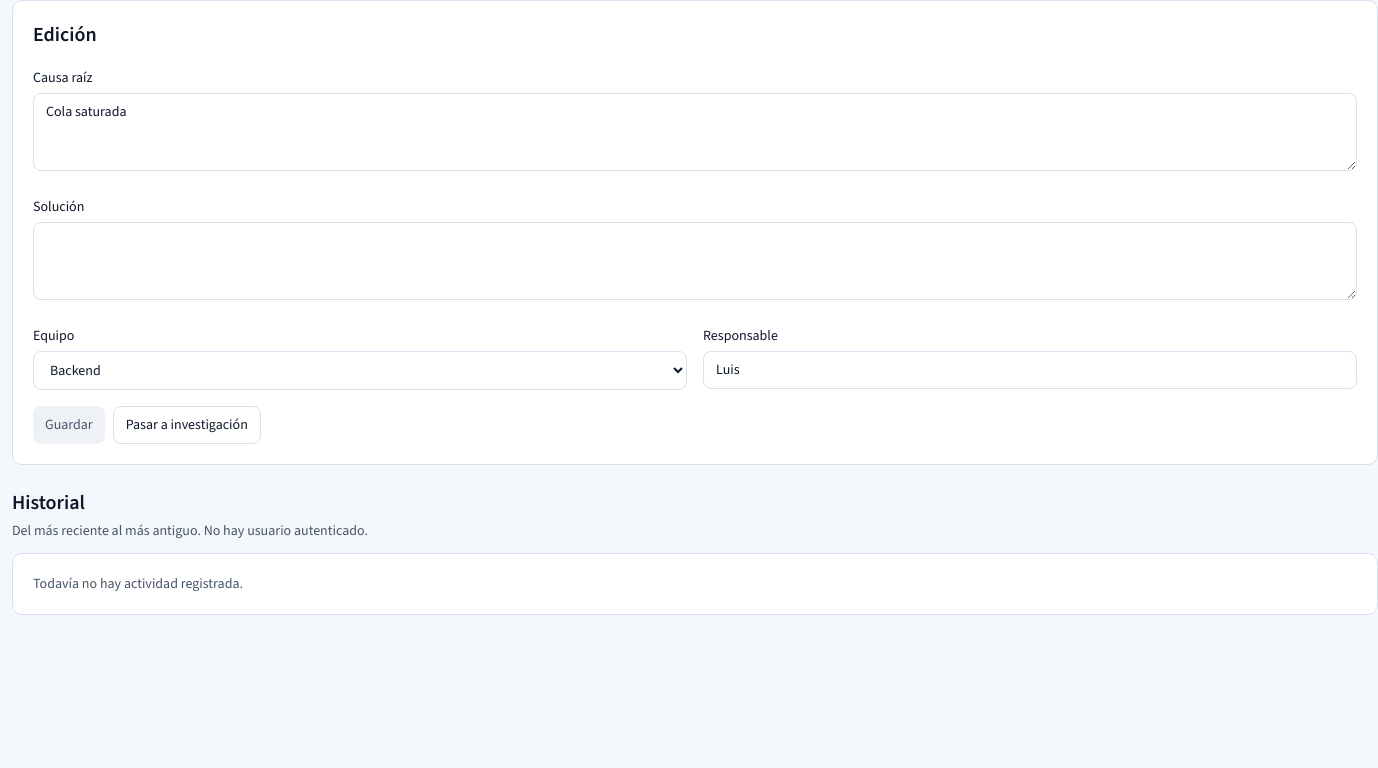
Scenario: IncidentEditor › shows the saved incident after a successful update
This screenshot has width=1378, height=768.
Step 1. Replace the text in the text box labelled "Causa raíz" with "  Timeout del proveedor  " → (695, 132), box [33,93,1357,171]
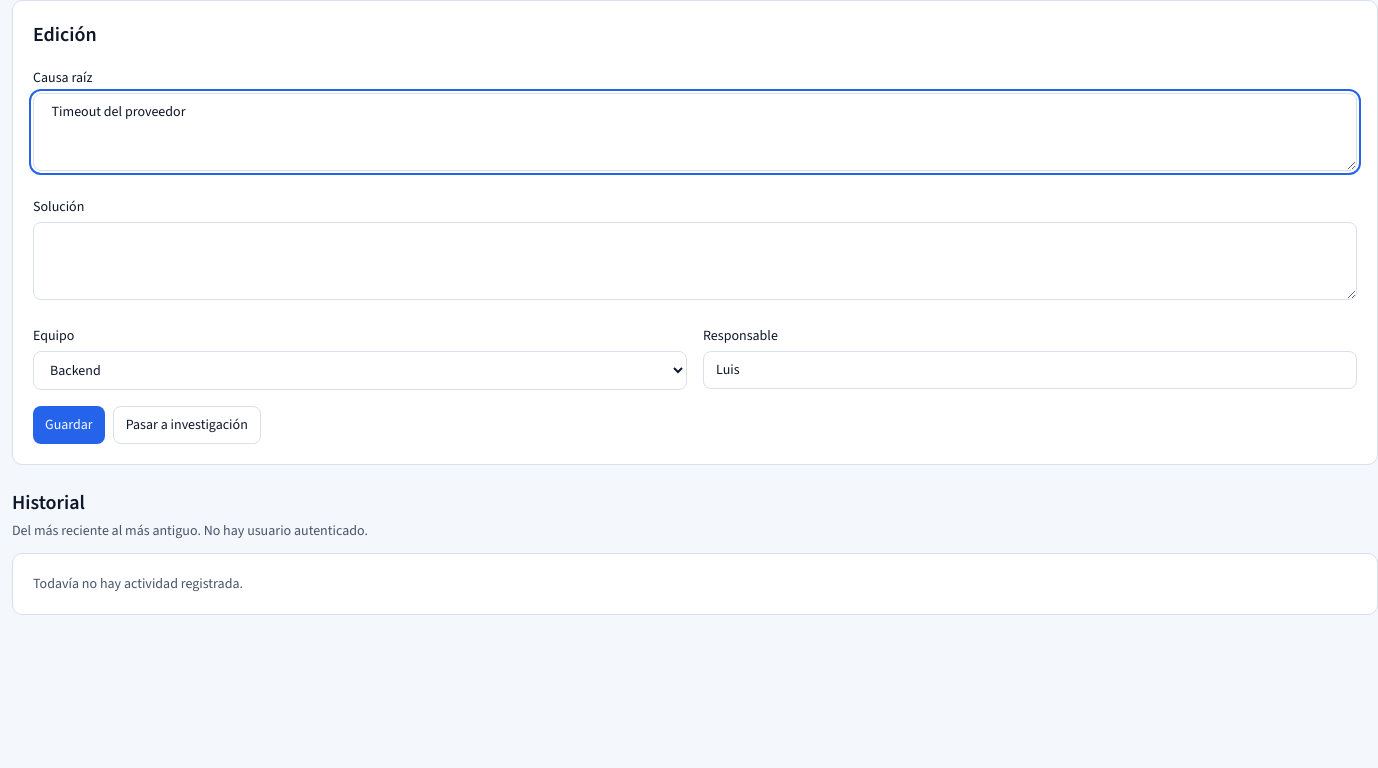
Step 2. Type "Reintentar el cobro" into the text box labelled "Solución" → (695, 261), box [33,222,1357,300]
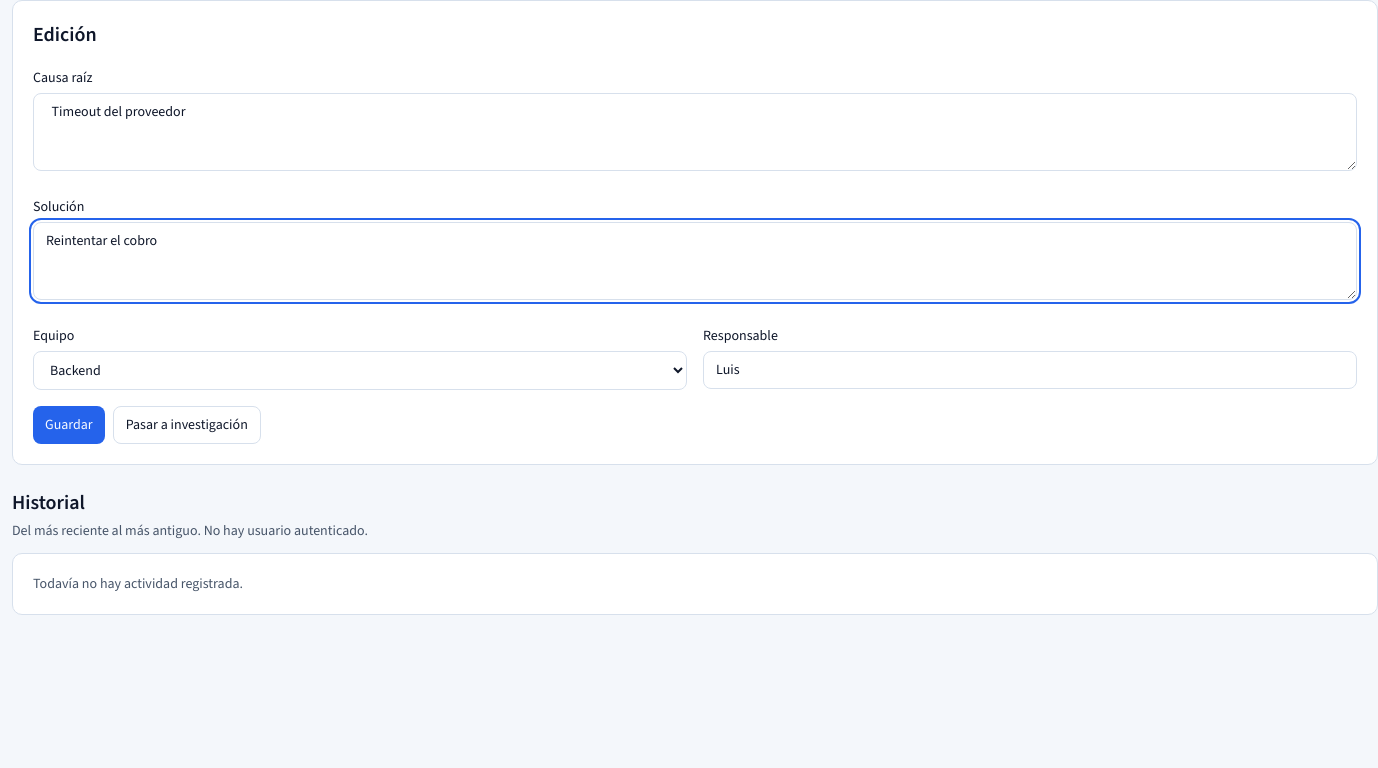
Step 3. Select "Frontend" in the dropdown labelled "Equipo" → (360, 370), box [33,351,687,390]
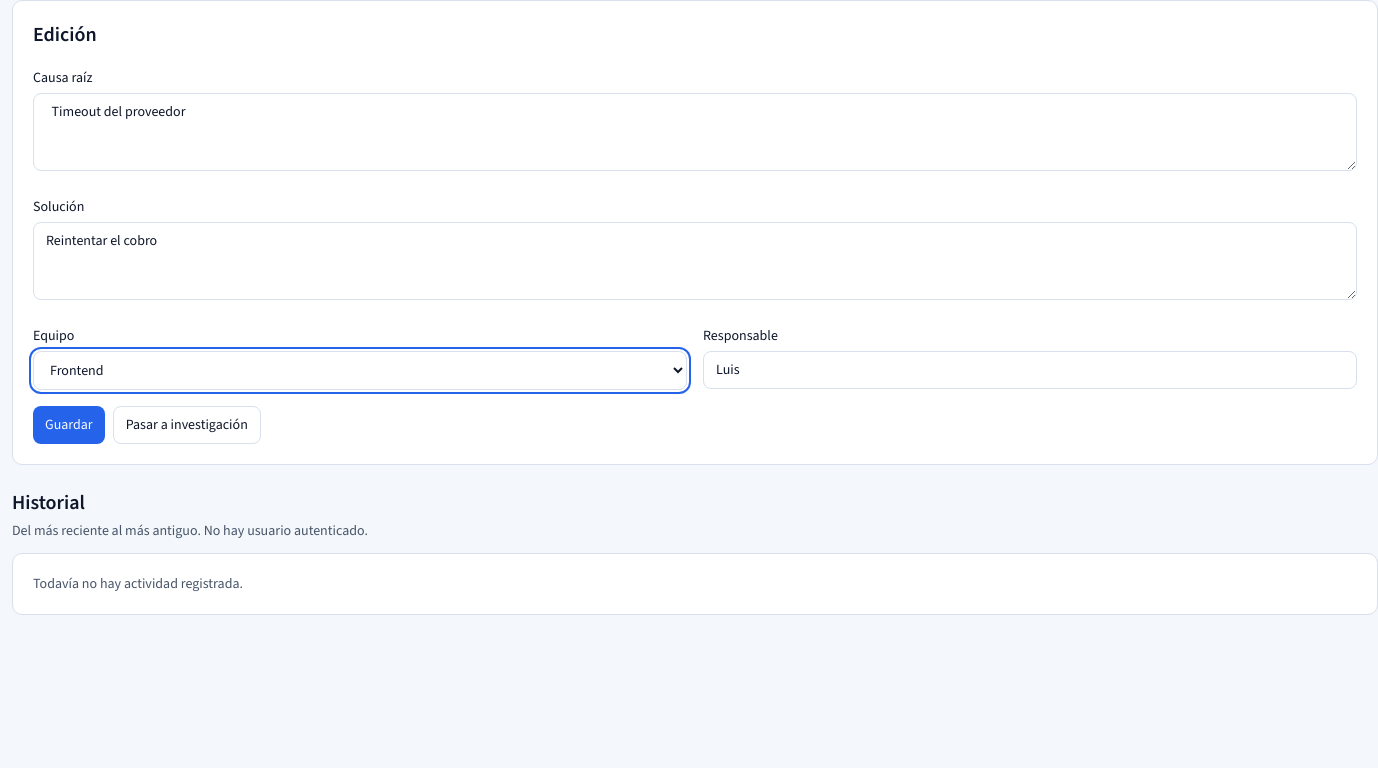
Step 4. Replace the text in the field labelled "Responsable" with "  Ana  " → (1030, 370), box [703,351,1357,389]
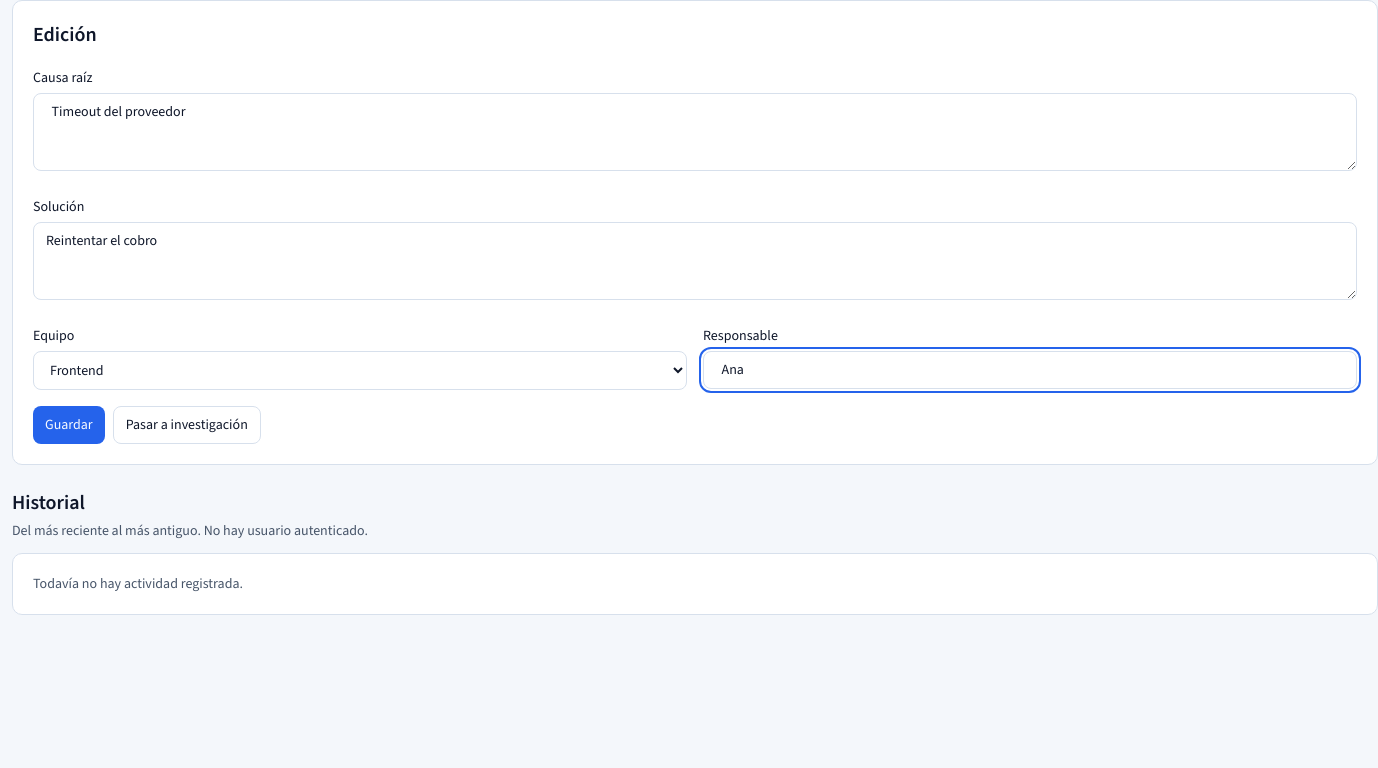
Step 5. Click the button "Guardar" → (69, 425), box [33,406,105,444]
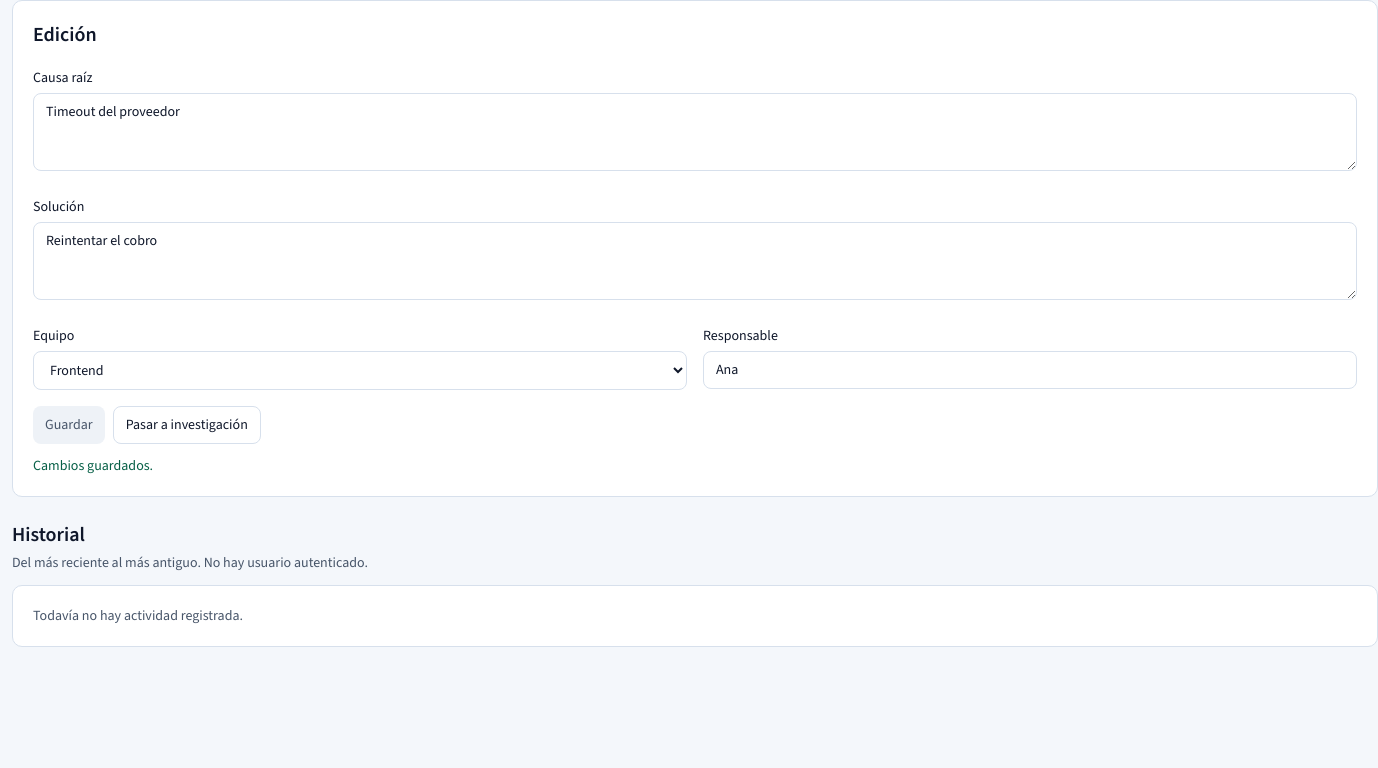
Result: the text "Cambios guardados." is shown at [33,456,153,475]
Result: the button "Guardar" is disabled at [33,406,105,444]
